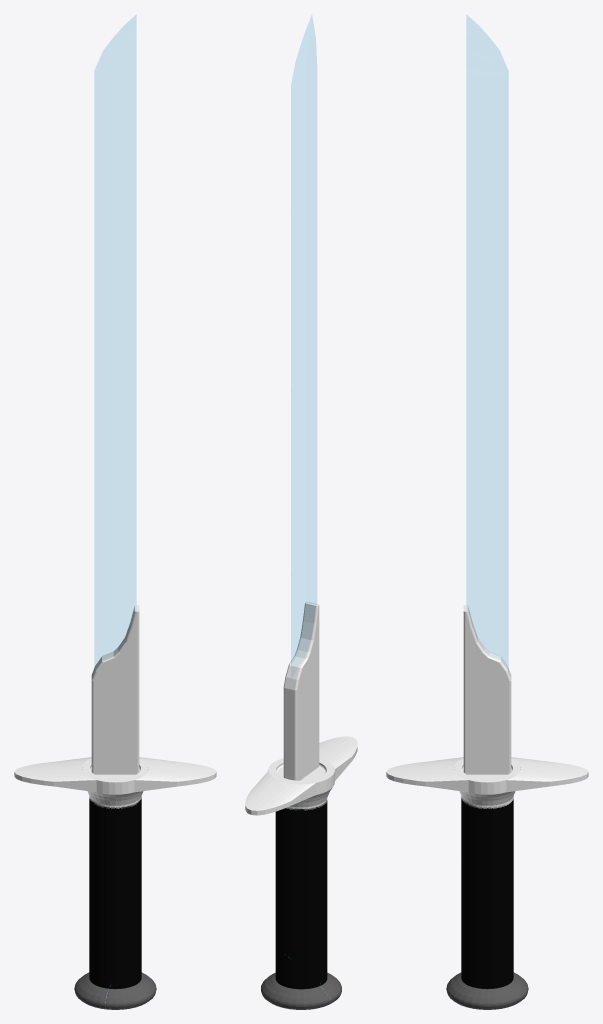
File: JoyRainEdge.fbx
The picture shows the model from 3 angles, left to right: view 1: azimuth 90°, elevation 25°; view 2: azimuth 150°, elevation 25°; view 3: azimuth 270°, elevation 25°; orthographic projection.
Visible parts, largest first — view 1: AirEdge, Handle, EntityEdge; view 2: Handle, AirEdge, EntityEdge; view 3: AirEdge, Handle, EntityEdge.
Boxes of the visible parts, left/top/right/bottom form: AirEdge: left=95, top=15, right=135, bottom=667; Handle: left=14, top=757, right=216, bottom=1009; EntityEdge: left=91, top=605, right=139, bottom=774; Handle: left=245, top=736, right=357, bottom=1009; AirEdge: left=291, top=16, right=316, bottom=665; EntityEdge: left=283, top=601, right=319, bottom=780; AirEdge: left=467, top=15, right=507, bottom=667; Handle: left=386, top=757, right=588, bottom=1009; EntityEdge: left=463, top=605, right=511, bottom=774.
Bounding box in the file's own units: 56.31 × 743 × 139.
3 materials, 3 textured.
